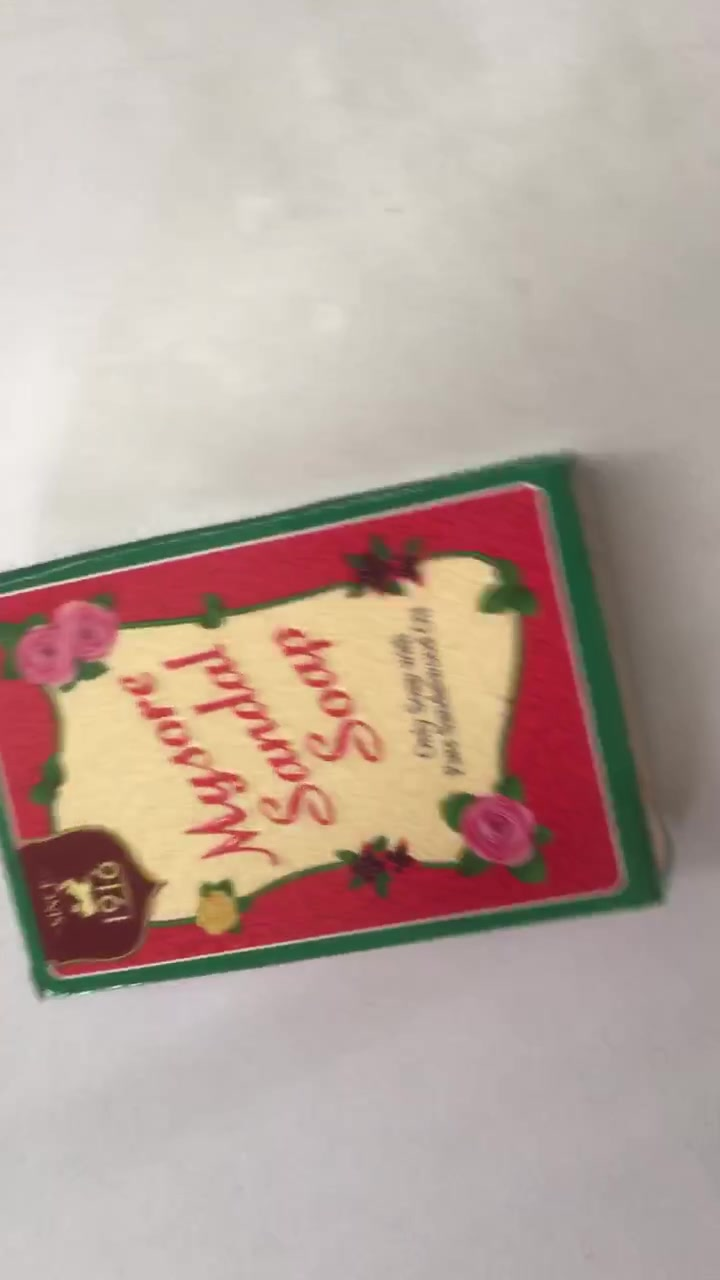mysore sandal soap: (1, 474, 663, 1006)
